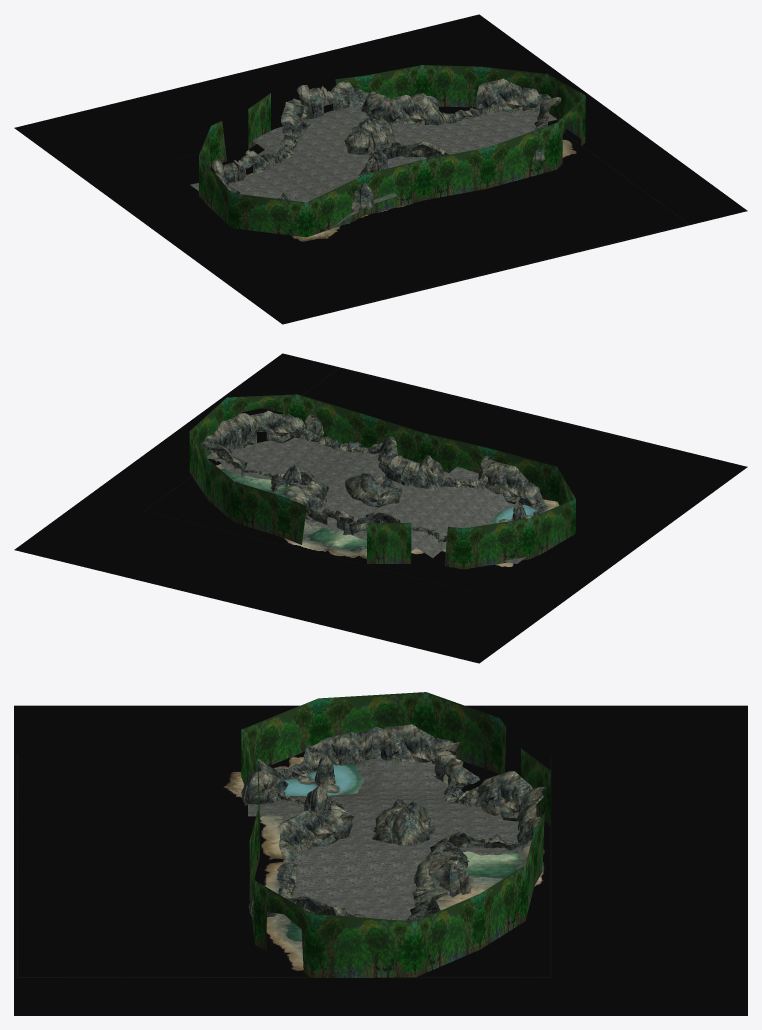
The model's file is jungle_a_zero.fbx.
3 renders of one model, top to bottom at view 1: azimuth 30°, elevation 25°; view 2: azimuth 150°, elevation 25°; view 3: azimuth 270°, elevation 25°, orthographic. The views are drawn at different scales.
Visible parts, largest first — view 1: minimap_PillagersPass_0, jungle_nat_walls, Ground, polySurface55, polySurface46, polySurface53, polySurface51, polySurface58, polySurface57, polySurface47, polySurface54; view 2: minimap_PillagersPass_0, jungle_nat_walls, Ground, polySurface48, polySurface45, polySurface50, polySurface43, polySurface56, polySurface57, polySurface46, polySurface47; view 3: minimap_PillagersPass_0, jungle_nat_walls, Ground, polySurface44, polySurface54, polySurface52, polySurface47, polySurface50, polySurface51, polySurface46, polySurface63, polySurface57 (+3 smaller).
Boxes of the visible parts, left/top/right/bottom form: minimap_PillagersPass_0: left=14, top=14, right=747, bottom=324; jungle_nat_walls: left=199, top=65, right=585, bottom=237; Ground: left=190, top=106, right=556, bottom=228; polySurface55: left=476, top=79, right=539, bottom=112; polySurface46: left=296, top=81, right=353, bottom=119; polySurface53: left=383, top=94, right=438, bottom=125; polySurface51: left=344, top=123, right=395, bottom=155; polySurface58: left=211, top=150, right=264, bottom=182; polySurface57: left=346, top=88, right=389, bottom=120; polySurface47: left=281, top=98, right=310, bottom=138; polySurface54: left=395, top=141, right=448, bottom=158; minimap_PillagersPass_0: left=14, top=353, right=747, bottom=663; jungle_nat_walls: left=189, top=394, right=575, bottom=569; Ground: left=207, top=437, right=525, bottom=563; polySurface48: left=485, top=462, right=539, bottom=506; polySurface45: left=245, top=410, right=303, bottom=444; polySurface50: left=345, top=473, right=400, bottom=507; polySurface43: left=201, top=413, right=250, bottom=461; polySurface56: left=387, top=455, right=437, bottom=489; polySurface57: left=293, top=481, right=326, bottom=522; polySurface46: left=305, top=508, right=353, bottom=535; polySurface47: left=343, top=512, right=397, bottom=534; minimap_PillagersPass_0: left=14, top=705, right=747, bottom=1015; jungle_nat_walls: left=241, top=692, right=550, bottom=977; Ground: left=248, top=754, right=531, bottom=920; polySurface44: left=303, top=727, right=382, bottom=771; polySurface54: left=278, top=810, right=348, bottom=850; polySurface52: left=379, top=724, right=453, bottom=764; polySurface47: left=477, top=771, right=543, bottom=821; polySurface50: left=401, top=801, right=435, bottom=845; polySurface51: left=372, top=799, right=404, bottom=845; polySurface46: left=517, top=786, right=546, bottom=850; polySurface63: left=245, top=769, right=277, bottom=805; polySurface57: left=455, top=831, right=533, bottom=851.
Size of the model in its own units: 150000 by 16911 by 150000.
Materials: 5 (5 with a texture image).
